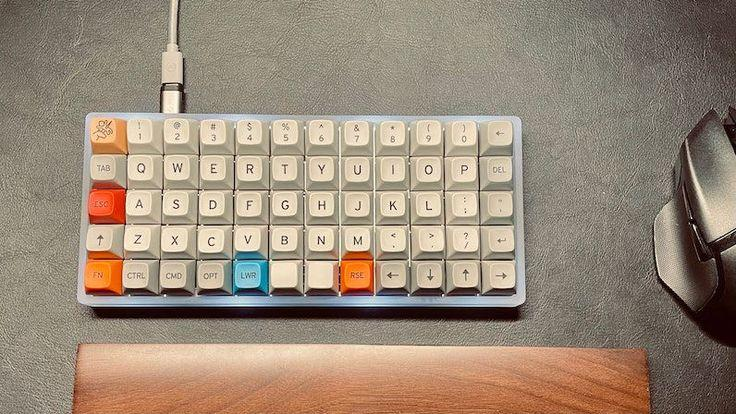keyboard: (76, 111, 526, 311)
